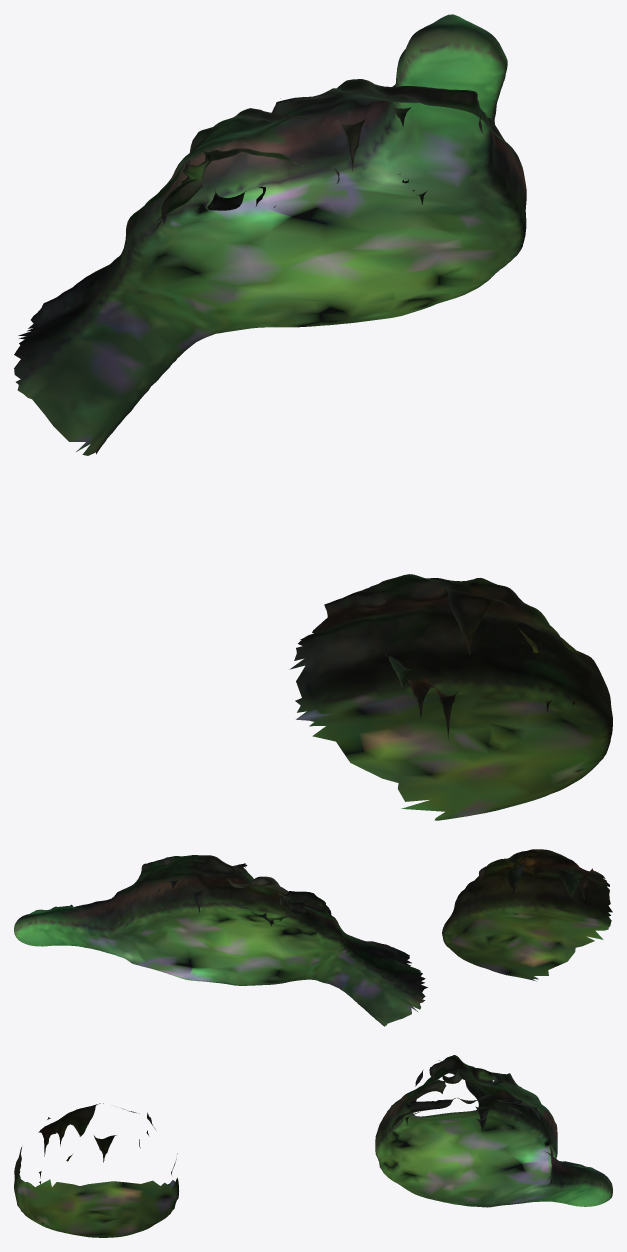
File: prp_cave_rock_d.glb
3 views of the same model, one above another, from view 1: azimuth 30°, elevation 25°; view 2: azimuth 150°, elevation 25°; view 3: azimuth 270°, elevation 25° (orthographic). The views are drawn at different scales.
Parts seen in each view (by area): view 1: INST_prp_cave_rock_d_rock; view 2: INST_prp_cave_rock_d_rock; view 3: INST_prp_cave_rock_d_rock.
Boxes of the visible parts, bbox=[...] form: INST_prp_cave_rock_d_rock: bbox=[14, 14, 612, 820]; INST_prp_cave_rock_d_rock: bbox=[14, 849, 612, 1026]; INST_prp_cave_rock_d_rock: bbox=[14, 1055, 612, 1237].
Size of the model in its own units: 22.5 by 11.46 by 36.49.
